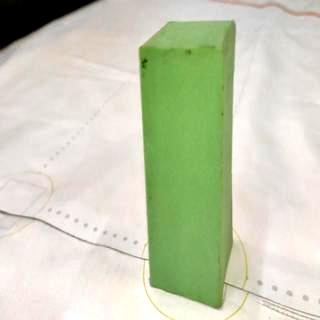greenbox: (140, 18, 236, 308)
